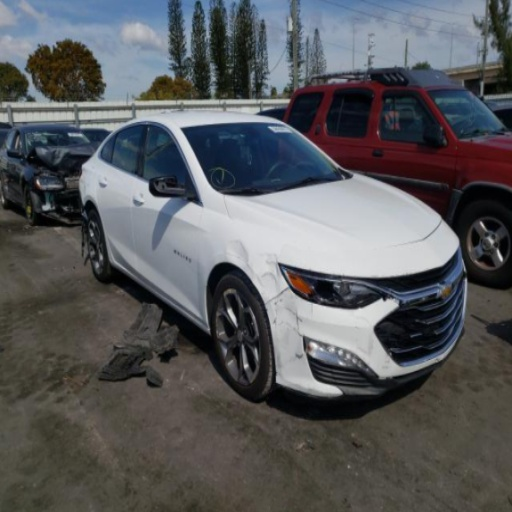dent: (264, 287, 305, 379), (225, 239, 281, 304), (357, 316, 376, 358), (261, 254, 283, 287), (378, 354, 392, 378)
scratch: (286, 307, 302, 321), (286, 323, 303, 335), (273, 317, 283, 327), (295, 352, 304, 359), (274, 299, 283, 304), (311, 303, 313, 316), (297, 311, 298, 334)
